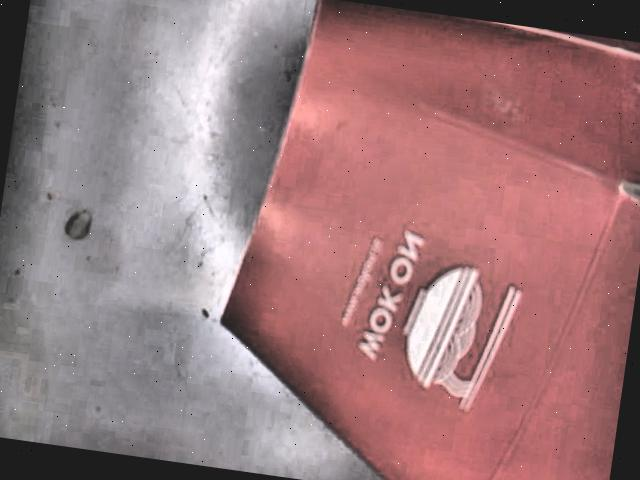Paper: (217, 0, 640, 480)
